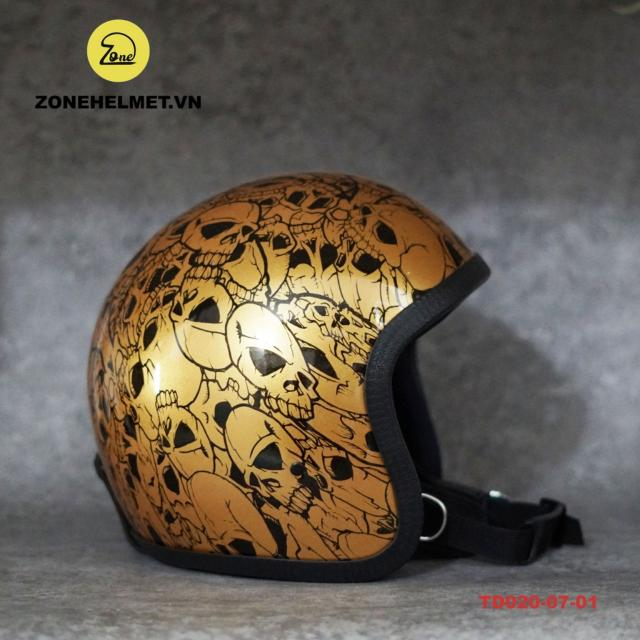Helmet: (77, 150, 495, 589)
